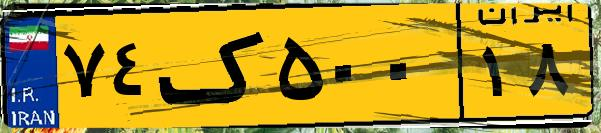0: (385, 28, 445, 110), (330, 28, 385, 110)
1: (475, 38, 525, 113)
4: (110, 28, 158, 98)
5: (270, 28, 330, 110)
7: (57, 26, 110, 100)
8: (525, 38, 570, 115)
ک: (158, 12, 270, 120)
